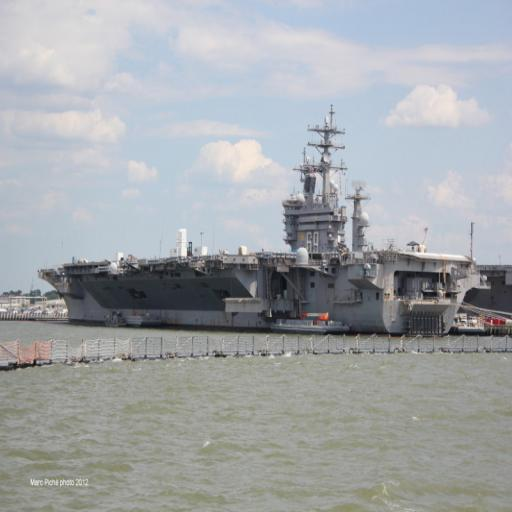Portanaves: (37, 98, 494, 340)
